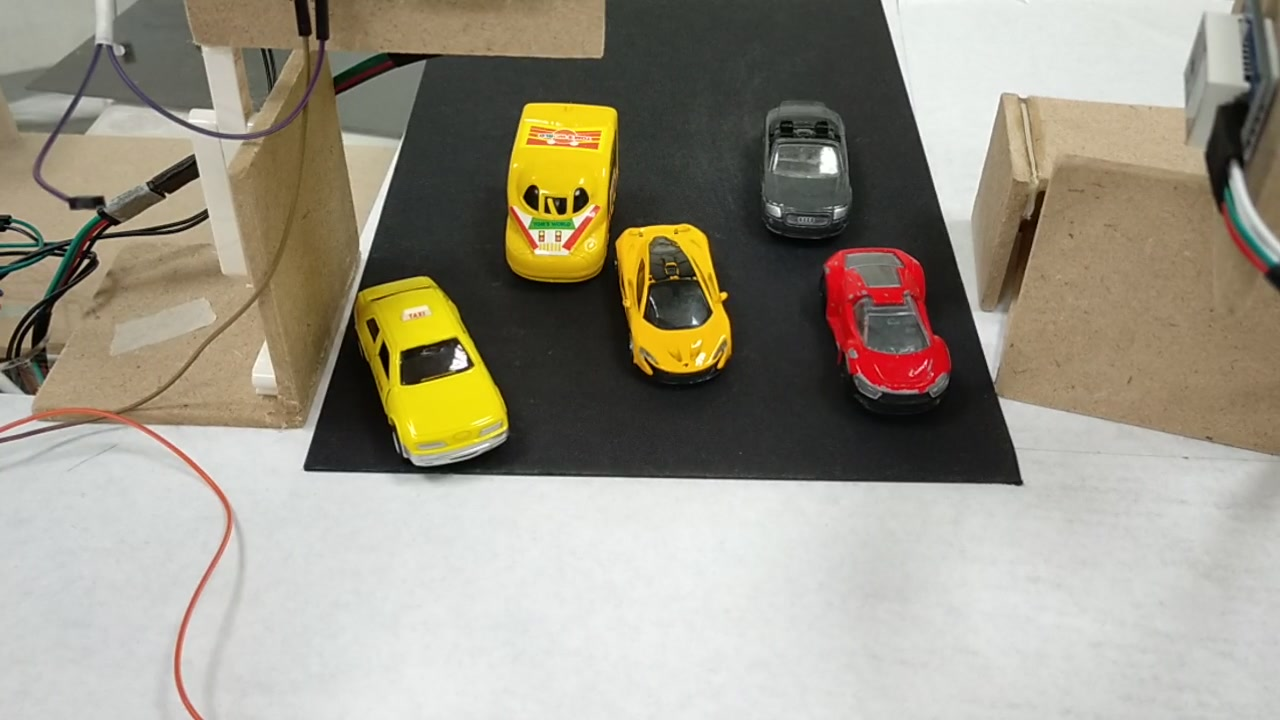car: (348, 288, 514, 468), (819, 248, 951, 413), (615, 221, 732, 384), (755, 101, 850, 242)
